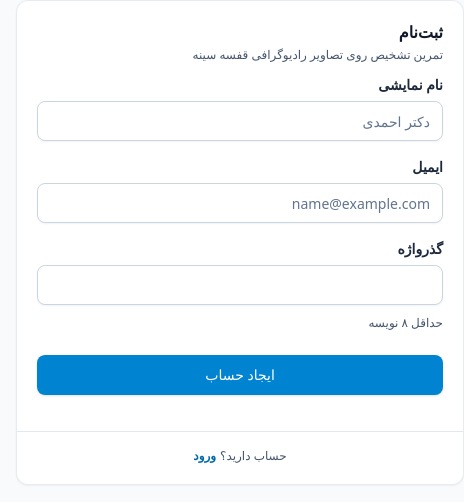
Test case: Auth Pages › RegisterPage › validates client fields and shows error when password is too short
Type "علی" into the field labelled "نام نمایشی" at (240, 121), box x1=37 y1=101 x2=443 y2=141
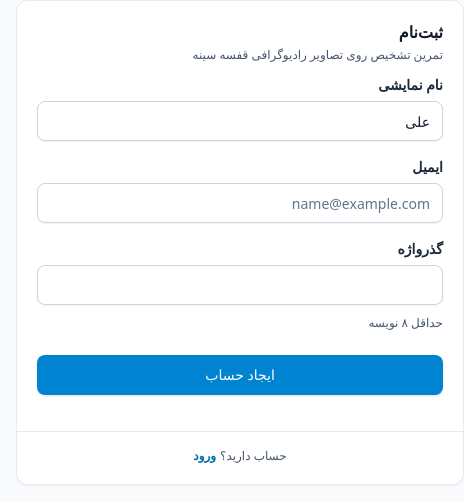
Type "ali@example.com" into the field labelled "ایمیل" at (240, 203), box x1=37 y1=183 x2=443 y2=223
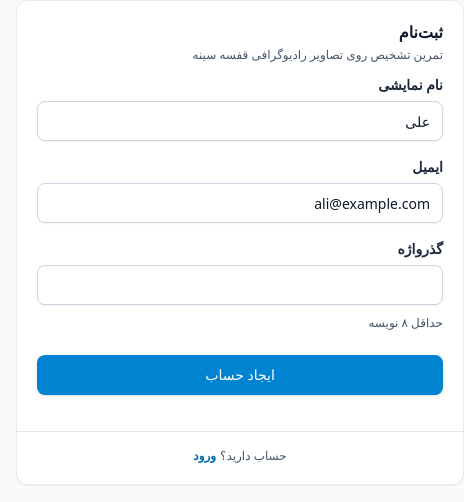
Type "123" into the password field labelled "گذرواژه" at (240, 285), box x1=37 y1=265 x2=443 y2=305
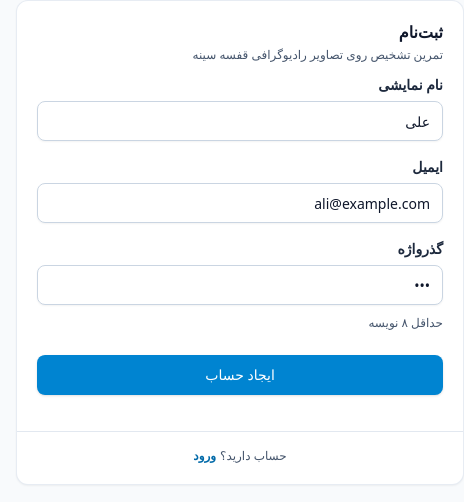
Click the button "ایجاد حساب" at (240, 375), box x1=37 y1=355 x2=443 y2=395
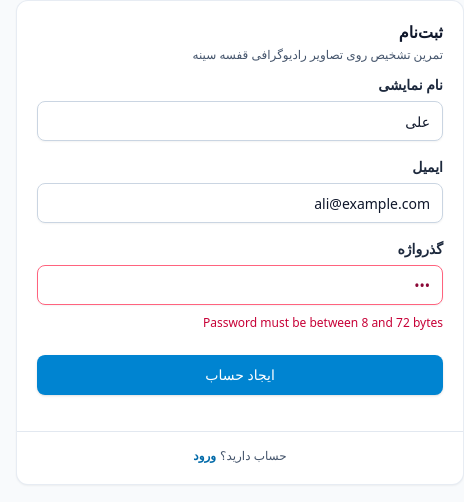
Expected: the text "Password must be between 8 and 72 bytes" is shown, x1=203 y1=314 x2=443 y2=331
